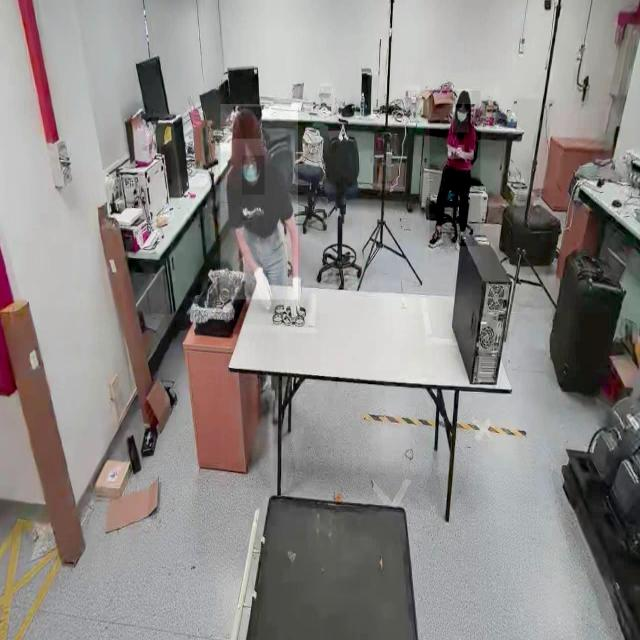face_mask: (242, 156, 264, 194), (452, 108, 468, 132)
hand_noglove: (448, 148, 460, 160), (458, 145, 464, 158)
head_nohelmet: (233, 106, 261, 140), (457, 89, 471, 105)
person: (220, 104, 298, 300), (429, 91, 481, 247)
shoes: (427, 219, 447, 249)
